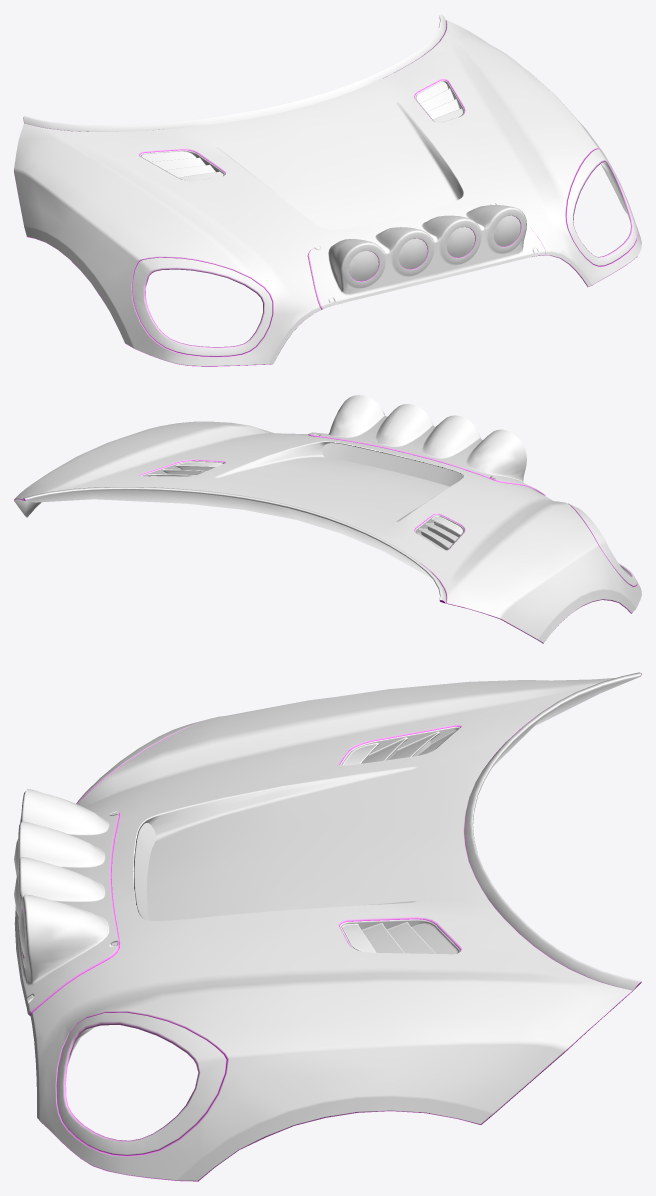
Rendered from Car_Mini_CountrymanJCW_2017_Hood_SetD_AltB.fbx.
3 views of the same model, one above another, from view 1: azimuth 30°, elevation 25°; view 2: azimuth 150°, elevation 25°; view 3: azimuth 270°, elevation 25° (orthographic). The views are drawn at different scales.
Visible parts, largest first — view 1: Hood 6; view 2: Hood 6; view 3: Hood 6.
Part boxes in pixels (x1,y1,x2,y2): Hood 6: (14, 14, 641, 366); Hood 6: (14, 395, 641, 643); Hood 6: (14, 672, 641, 1181).
Size of the model in its own units: 1.78 by 0.3896 by 1.23.
